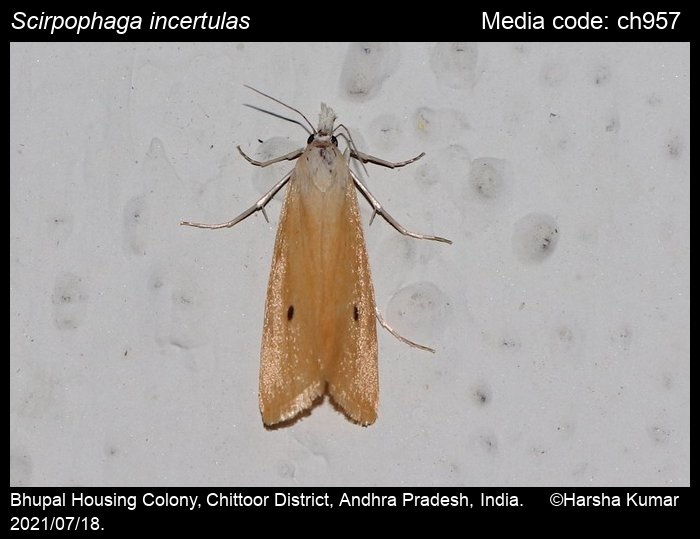Crambidae: (179, 82, 460, 432)
